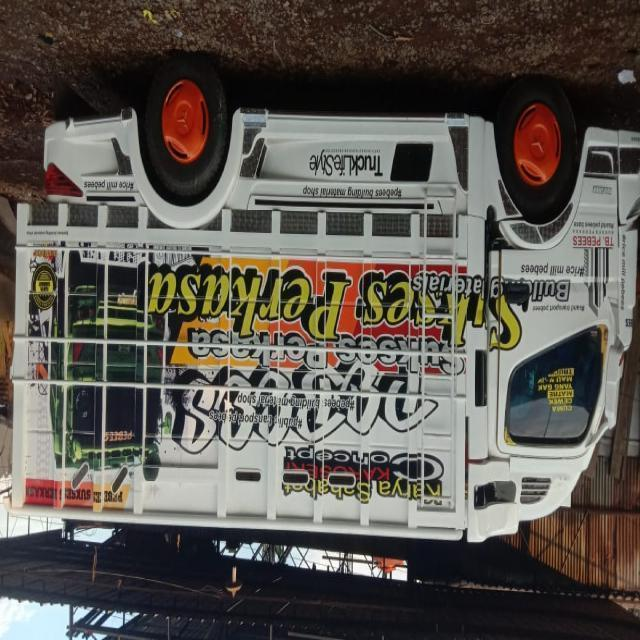truck: (10, 62, 640, 551)
